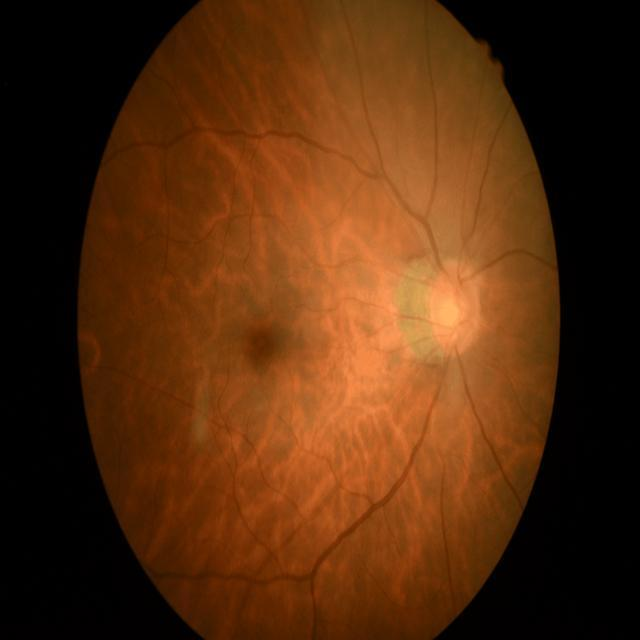cup: (437, 287, 465, 337)
disk: (428, 258, 483, 356)
